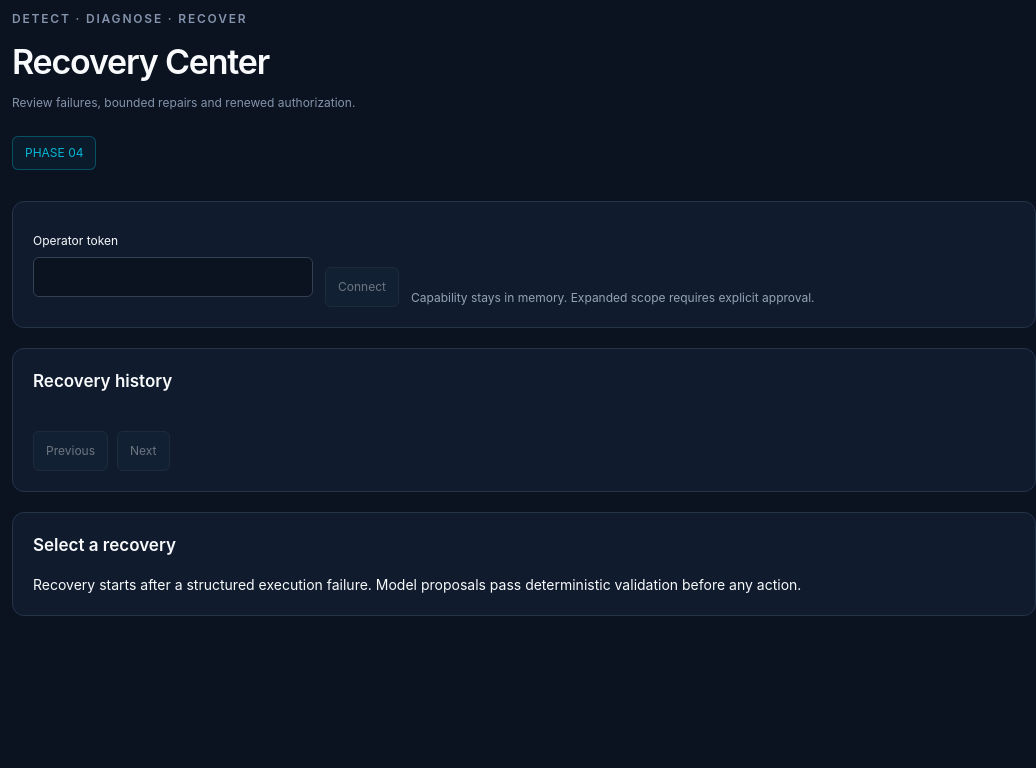
Test case: displays protected history failures
The image size is (1036, 768).
Type "test-operator" into the password field labelled "Operator token" at (173, 277), box 33,257 -> 313,297
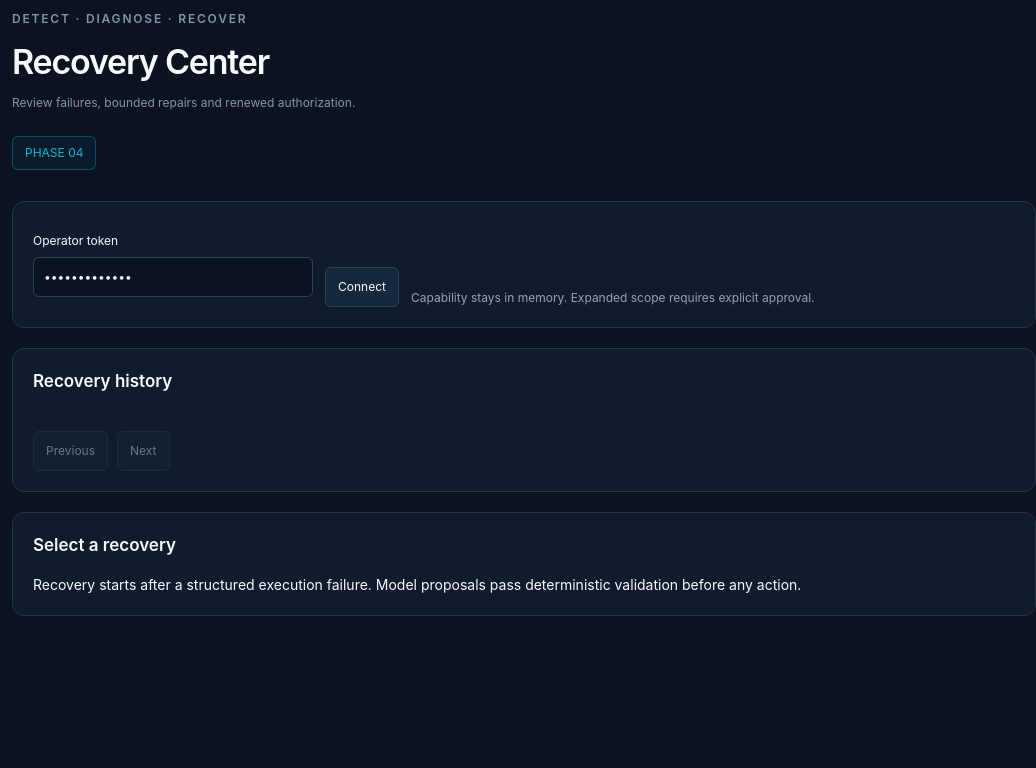
Click the button "Connect" at (362, 287), box 325,267 -> 399,307
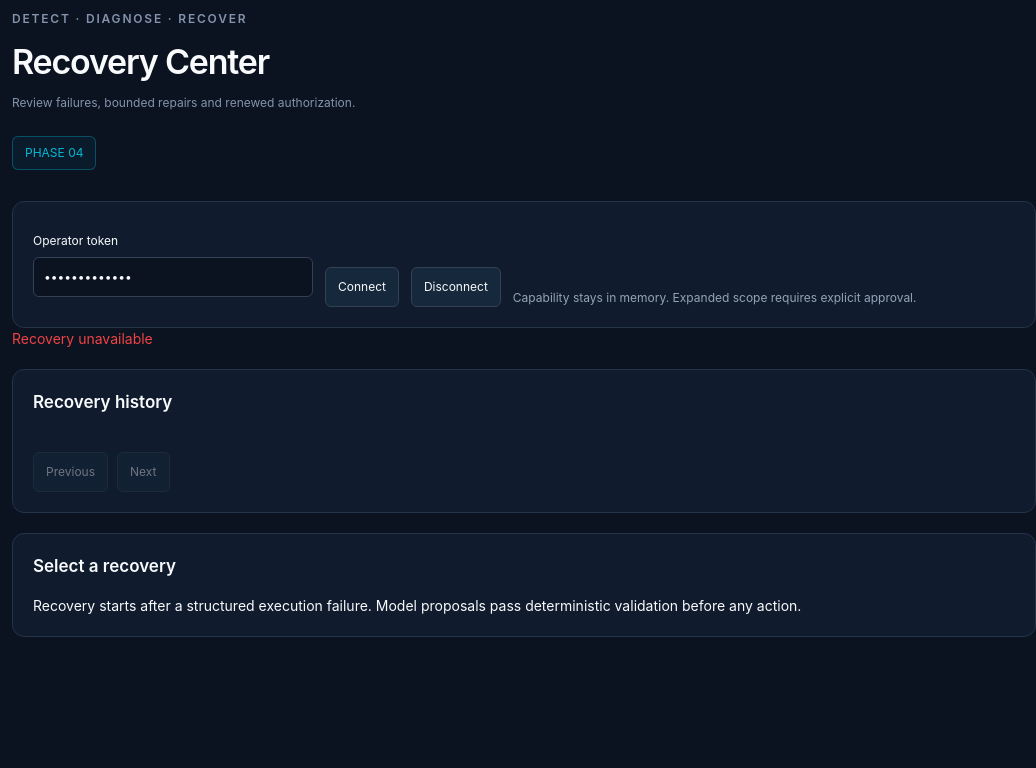
Now the message reads "Recovery unavailable", box 12,330 -> 153,347
